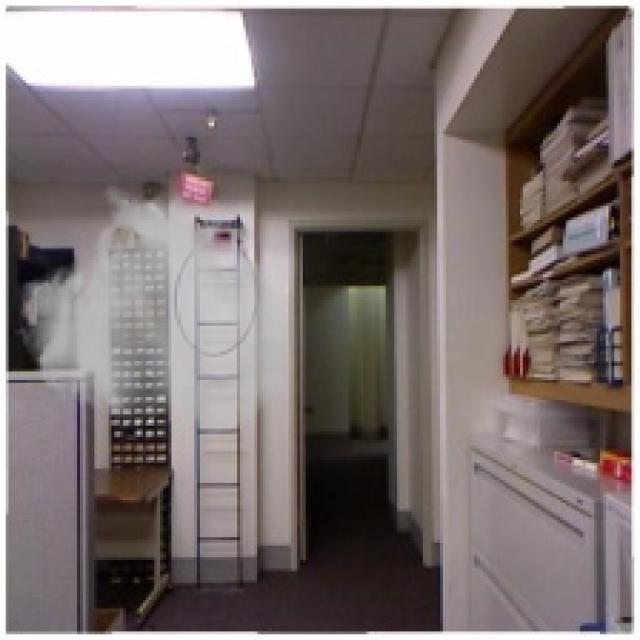Smoke: (17, 182, 297, 438)
